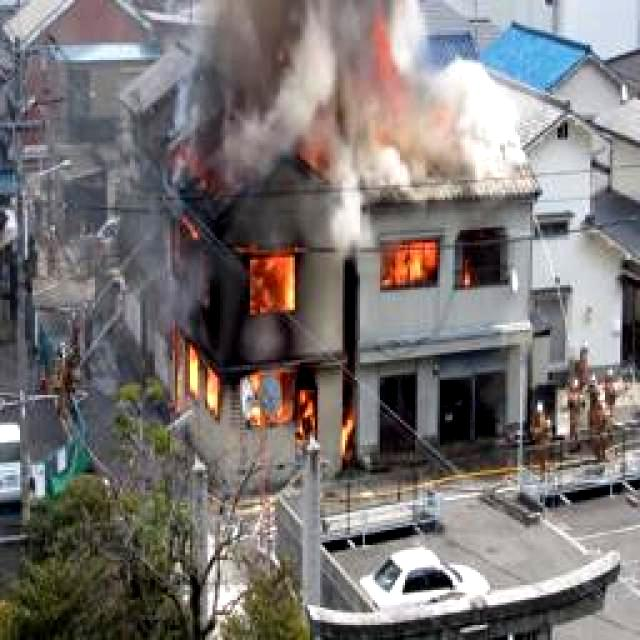helmet: (166, 235, 335, 474), (362, 64, 447, 158), (385, 230, 463, 295)
no_helmet: (176, 5, 545, 210)
